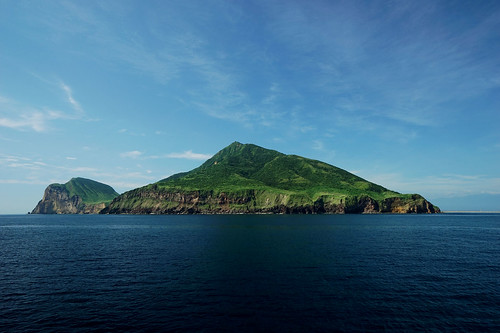turtleIslandLeft: (34, 138, 446, 214)
